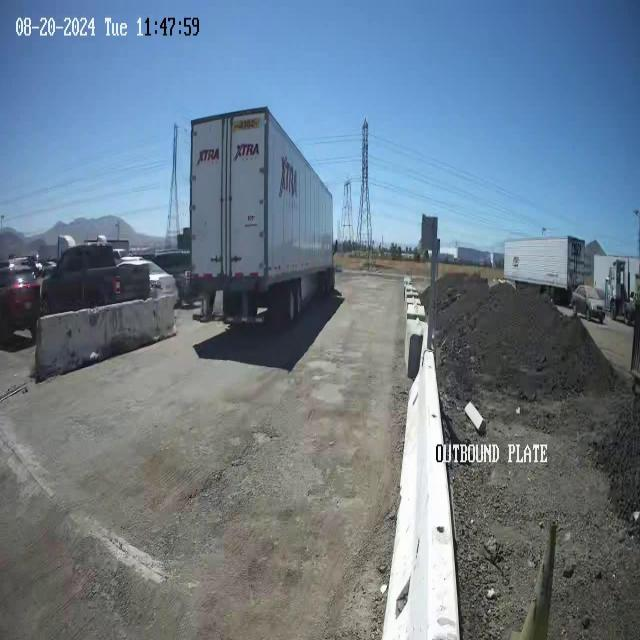TRUCK_CONTAINER: (188, 104, 335, 324)
